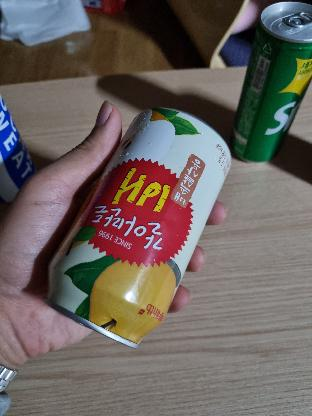Can: (46, 106, 232, 348), (230, 1, 312, 162)
